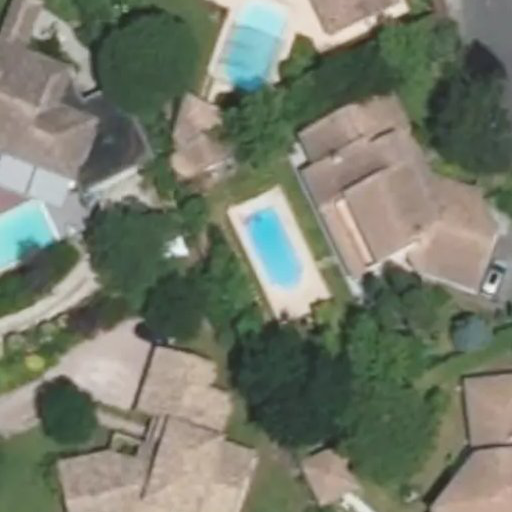pool: (222, 216, 289, 267)
